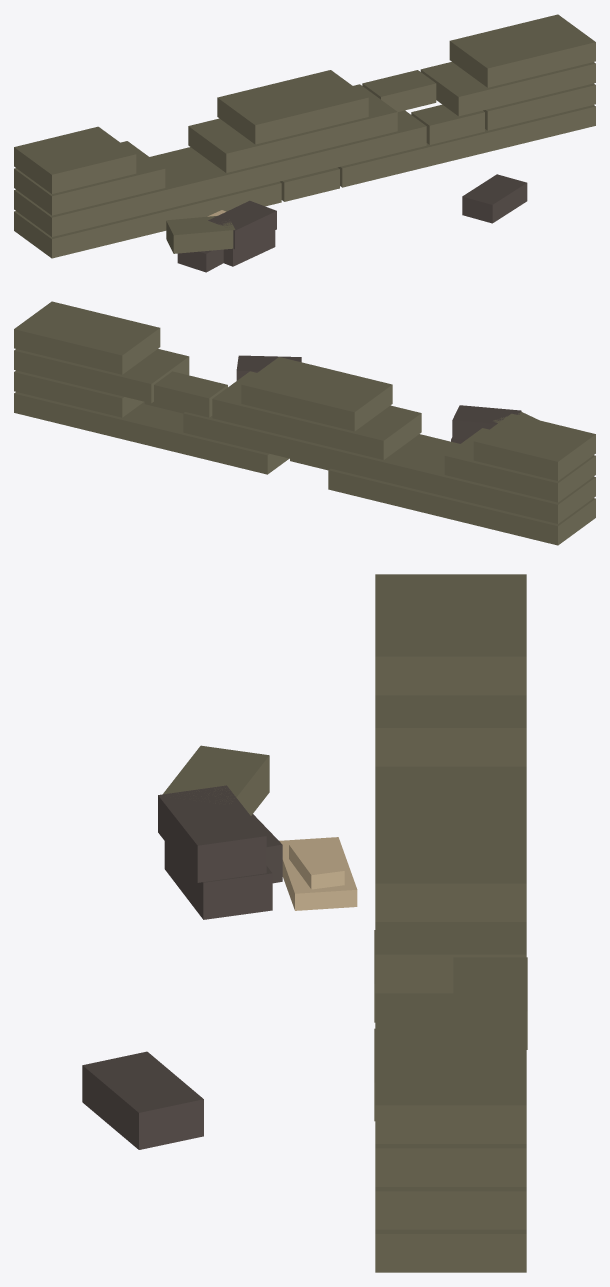
Rendered from SM_MuroSacos_v0_Recto_e1_Danado_LOD1.fbx.
3 views of the same model, one above another, from view 1: azimuth 30°, elevation 25°; view 2: azimuth 150°, elevation 25°; view 3: azimuth 270°, elevation 25° (orthographic). The views are drawn at different scales.
Parts seen in each view (by area): view 1: SM_bloques.muro_sacos_estados_v1_LOD1; view 2: SM_bloques.muro_sacos_estados_v1_LOD1; view 3: SM_bloques.muro_sacos_estados_v1_LOD1.
Boxes of the visible parts, bbox=[...] form: SM_bloques.muro_sacos_estados_v1_LOD1: bbox=[14, 14, 595, 272]; SM_bloques.muro_sacos_estados_v1_LOD1: bbox=[14, 301, 595, 545]; SM_bloques.muro_sacos_estados_v1_LOD1: bbox=[82, 574, 527, 1272].
Size of the model in its own units: 7.96 by 1.18 by 2.82.
